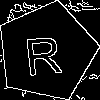R: (21, 27, 63, 76)
